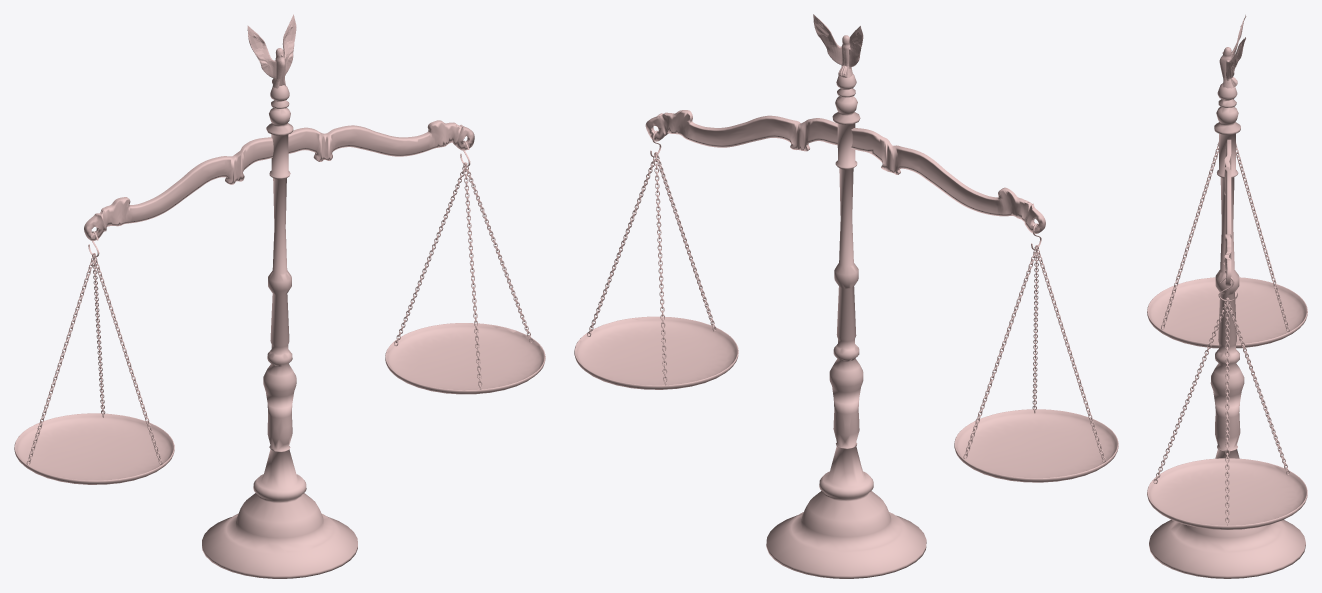
The model's file is balance-scale.glb.
The picture shows the model from 3 angles, left to right: view 1: azimuth 30°, elevation 25°; view 2: azimuth 150°, elevation 25°; view 3: azimuth 270°, elevation 25°; orthographic projection. The views are drawn at different scales.
Visible parts, largest first — view 1: Cylinder, Circle.001, Plane, Cylinder.003, Torus, Torus.001, Torus.002, Torus.003; view 2: Cylinder, Circle.001, Plane, Torus.001, Torus, Cylinder.003, Torus.003; view 3: Circle.001, Cylinder, Torus.001, Plane, Torus, Cylinder.003, Torus.002, Torus.003.
Boxes of the visible parts, bbox=[...] form: Cylinder: bbox=[202, 85, 357, 578]; Circle.001: bbox=[14, 323, 545, 484]; Plane: bbox=[84, 120, 474, 240]; Cylinder.003: bbox=[247, 14, 296, 88]; Torus: bbox=[26, 163, 532, 465]; Torus.001: bbox=[92, 162, 467, 417]; Torus.002: bbox=[92, 253, 162, 464]; Torus.003: bbox=[463, 162, 482, 389]; Cylinder: bbox=[766, 74, 926, 578]; Circle.001: bbox=[574, 316, 1118, 482]; Plane: bbox=[645, 110, 1045, 233]; Torus.001: bbox=[654, 152, 1038, 458]; Torus: bbox=[587, 152, 1105, 462]; Cylinder.003: bbox=[813, 14, 863, 77]; Torus.003: bbox=[655, 152, 716, 331]; Circle.001: bbox=[1147, 277, 1307, 529]; Cylinder: bbox=[1149, 83, 1305, 578]; Torus.001: bbox=[1226, 143, 1289, 475]; Plane: bbox=[1223, 139, 1231, 285]; Torus: bbox=[1225, 297, 1229, 525]; Cylinder.003: bbox=[1219, 15, 1246, 88]; Torus.002: bbox=[1161, 142, 1218, 329]; Torus.003: bbox=[1153, 297, 1228, 483].
Size of the model in its own units: 7.52 by 7.32 by 2.05.
